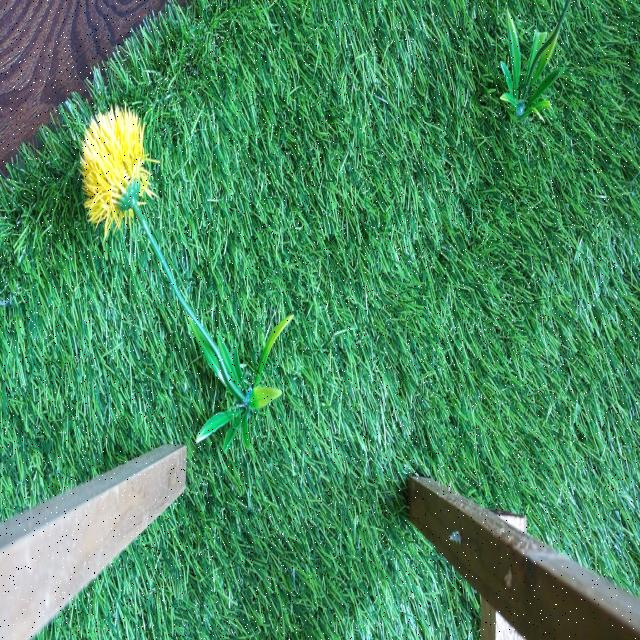base: (184, 314, 294, 456), (500, 9, 560, 124)
flower: (82, 104, 152, 228)
